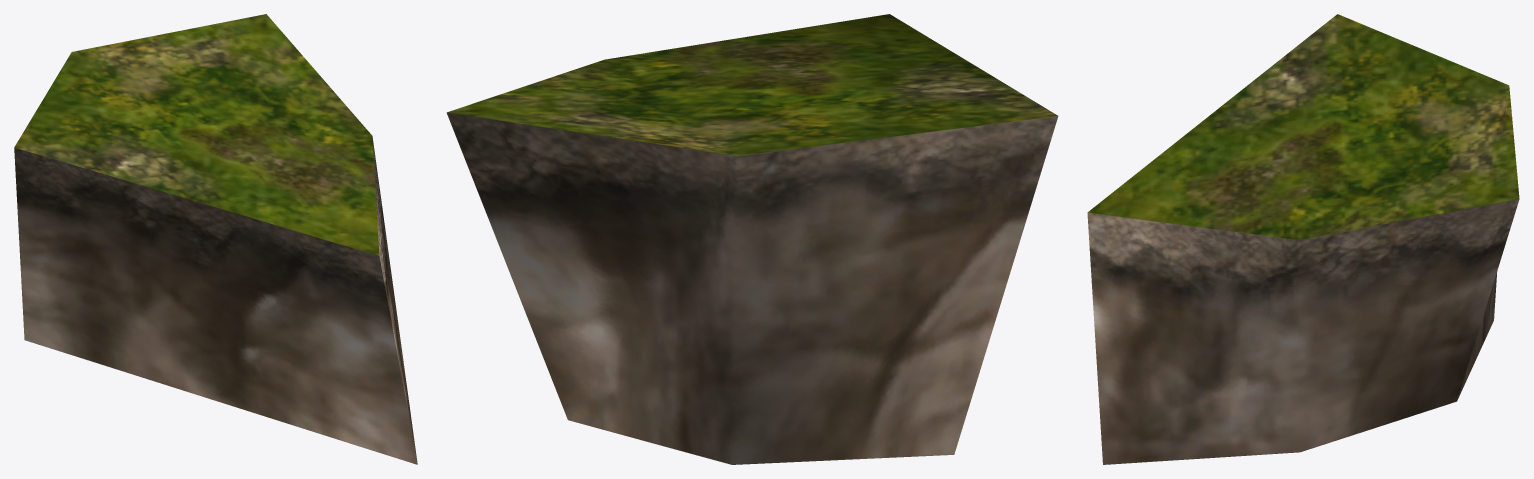
The model's file is ANIMATEDINSTANCES_OH_ROCKFALL_200__AI.fbx.
3 renders of one model, left to right at view 1: azimuth 30°, elevation 25°; view 2: azimuth 150°, elevation 25°; view 3: azimuth 270°, elevation 25°, orthographic. The views are drawn at different scales.
Visible parts, largest first — view 1: ANIMATEDINSTANCES_OH_ROCKFALL_200__AI; view 2: ANIMATEDINSTANCES_OH_ROCKFALL_200__AI; view 3: ANIMATEDINSTANCES_OH_ROCKFALL_200__AI.
Part boxes in pixels (x1,y1,x2,y2): ANIMATEDINSTANCES_OH_ROCKFALL_200__AI: (14,14,417,464); ANIMATEDINSTANCES_OH_ROCKFALL_200__AI: (446,14,1058,464); ANIMATEDINSTANCES_OH_ROCKFALL_200__AI: (1087,14,1519,464).
Bounding box in the file's own units: 8231 × 6979 × 8869.
2 materials, 2 textured.
